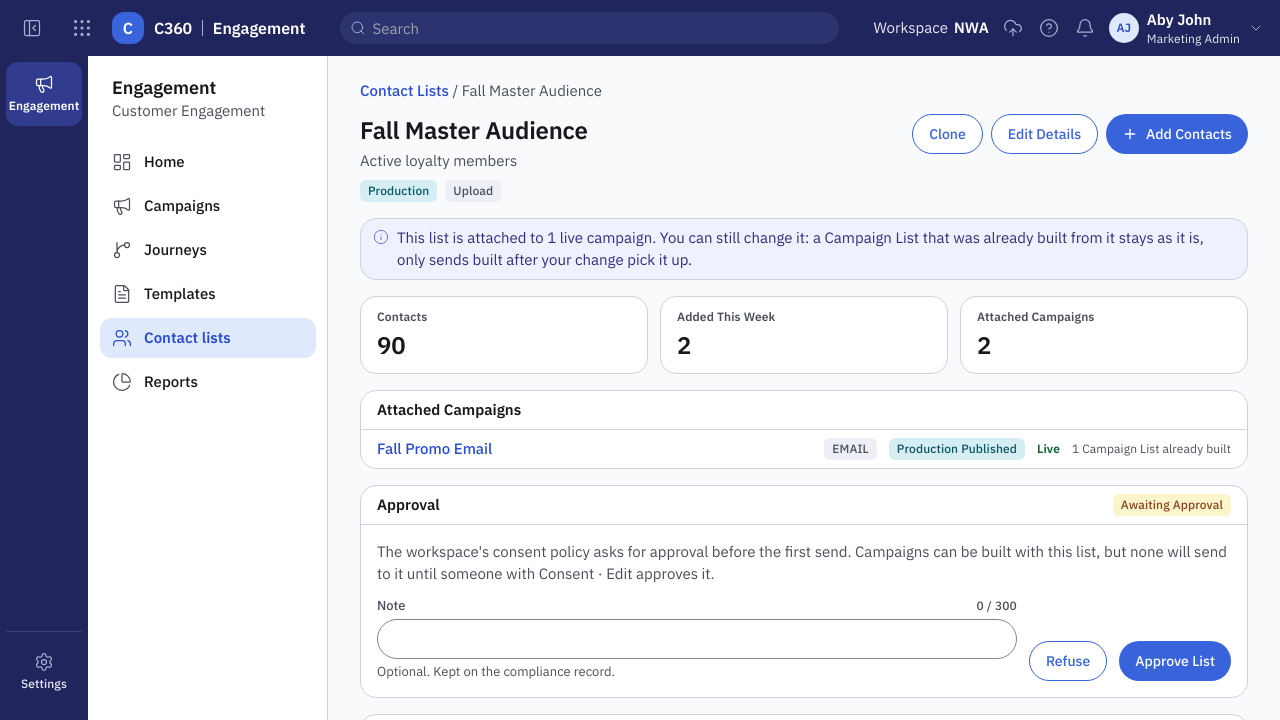
Test: a list awaiting approval: the card says so, Approve records the note and lifts it; the compliance record shows the declaration, the policy and today’s consent
The width and height of the screenshot is (1280, 720).
expect the text "Awaiting Approval" is shown: met, box [1113,494,1231,516]
expect the element "Approval" shows "none will send to it until someone with Consent · Edit approves it": met, box [377,542,1227,583]
Type "Form checked" into the field labelled "Note". click: (697, 639)
box: [377,619,1017,659]
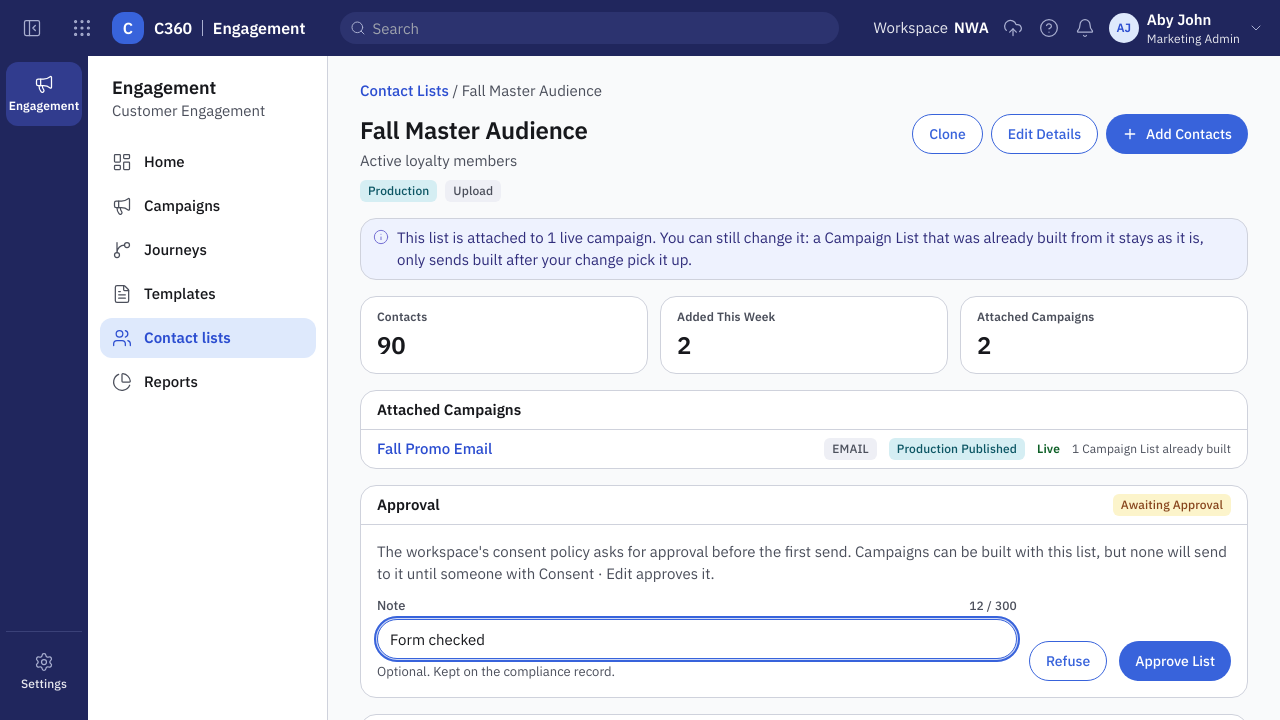
Click the button "Approve List". click: (1175, 661)
box: [1119,641,1231,681]
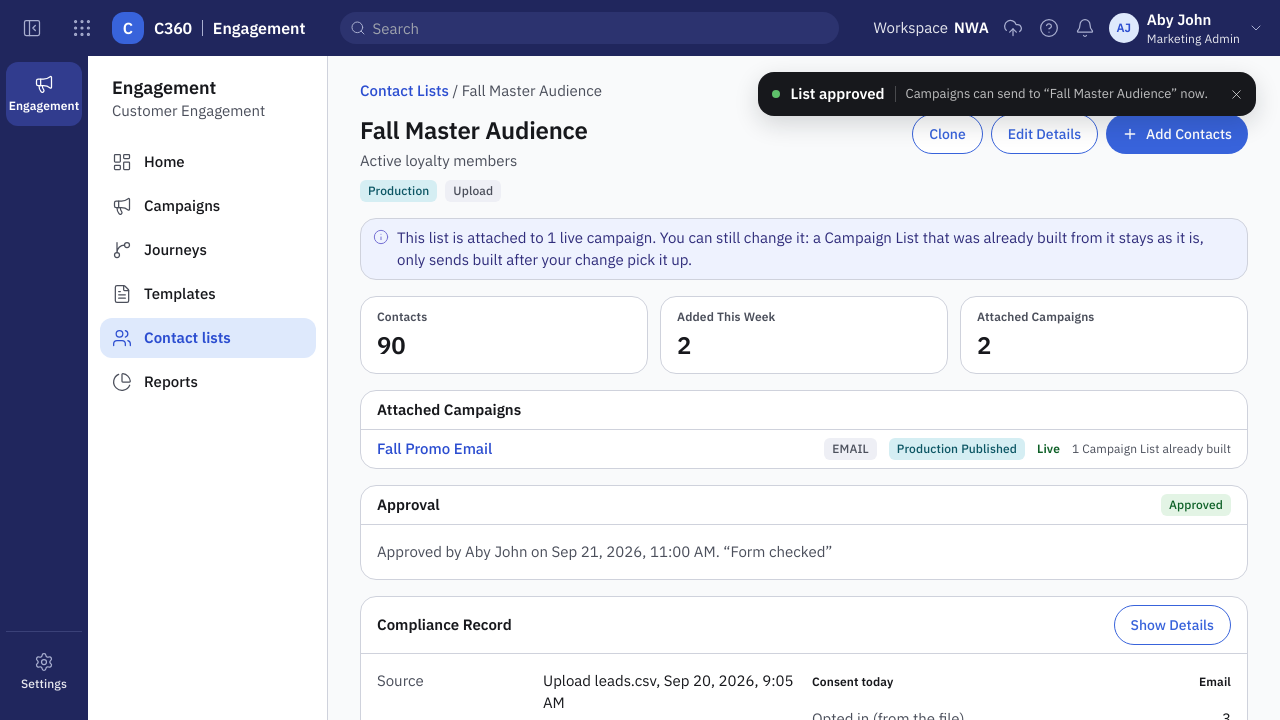
expect the text "Approved" is shown: met, box [1161,494,1231,516]
expect the element "Approval" shows "Approved by Aby John": met, box [360,485,1248,580]
expect the element "Approval" shows "“Form checked”": met, box [720,542,832,561]
Click the button "Show Details". click: (1172, 625)
box: [1114,605,1231,645]
(page scrolled)
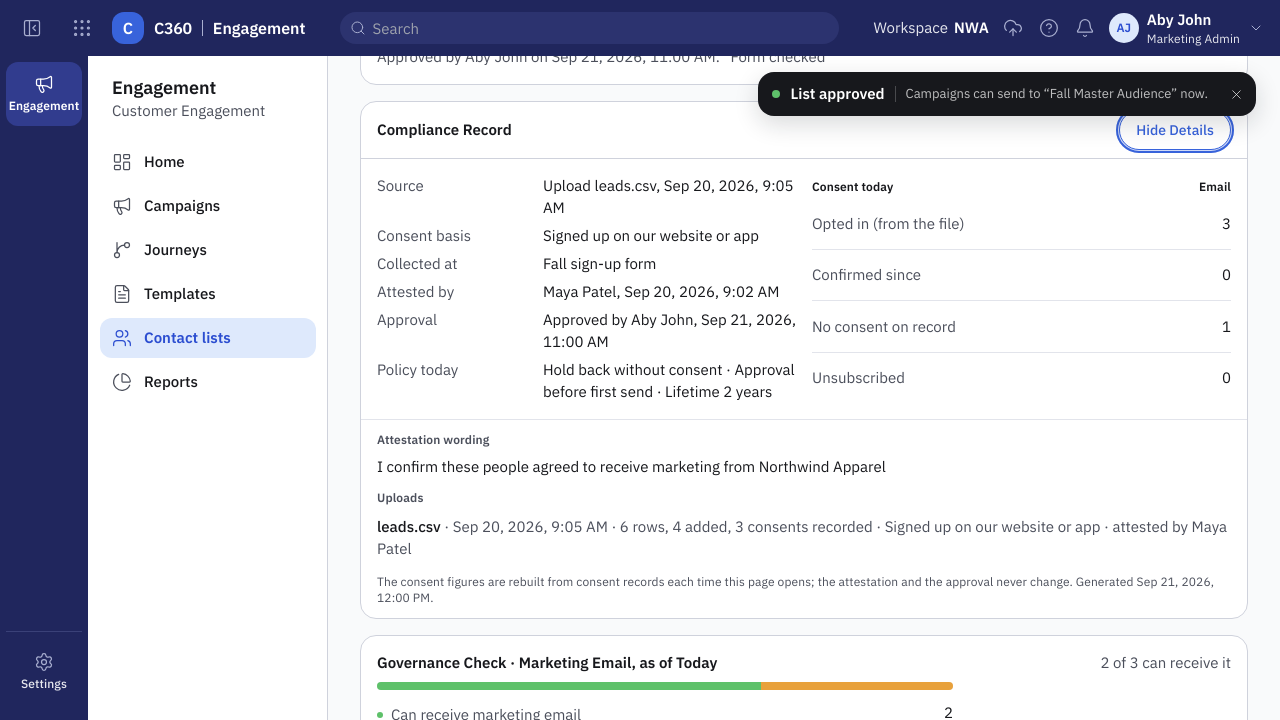
expect the element "Compliance Record" shows "leads.csv": met, box [377,517,441,536]
expect the element "Compliance Record" shows "I confirm these people agreed to receive marketing from Northwind Apparel": met, box [377,457,886,476]
